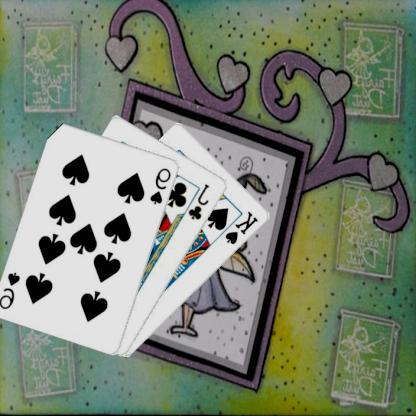9S: (150, 164, 174, 206), (0, 270, 24, 310)
JC: (187, 180, 213, 222)
KS: (224, 208, 262, 245)
